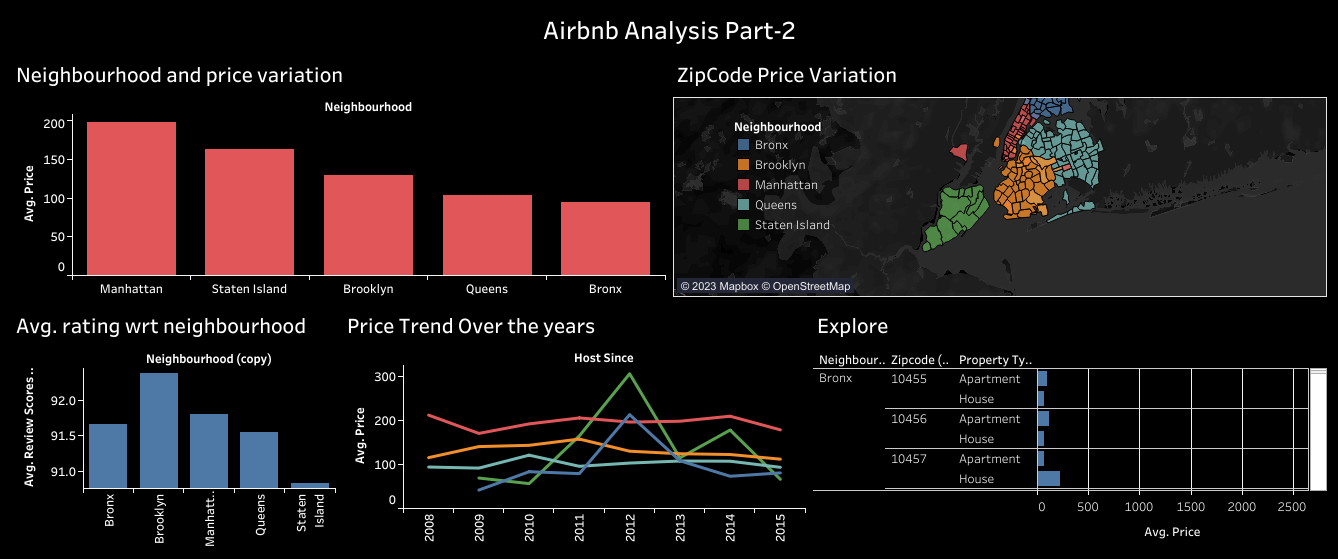

What the dashboard file says about the page in this screenshot:
{"tool":"tableau","page":{"name":"Dashboard 2","canvas":[1000,1000],"units":"permille","ordinal":1},"visuals":[{"type":"title","box":[6.9,13.3,986.1,68.1]},{"type":"worksheet","title":"Neighbourhood and price variation","mark":"Automatic","rows":["Price"],"cols":["Neighbourhood"],"box":[6.9,81.4,493,452.7]},{"type":"worksheet","title":"ZipCode Price Variation","mark":"Multipolygon","box":[500,81.4,493.1,452.7]},{"type":"legend","title":"ZipCode Price Variation","param":"[federated.1803osf0kwzkim16sy23b1sz4est].[none:Neighbourhood (copy)_162861424138","box":[547.2,206,139.4,227.6]},{"type":"worksheet","title":"Sheet 13","mark":"Automatic","rows":["Review Scores Rating"],"cols":["Neighbourhood (copy)_1628614241383301120"],"box":[6.9,534,246.5,452.7]},{"type":"worksheet","title":"Sheet 11","mark":"Automatic","rows":["Price"],"cols":["Host Since"],"box":[253.5,534,350.8,452.7]},{"type":"worksheet","title":"Sheet 12","mark":"Automatic","rows":["Neighbourhood (copy)_1628614241383301120","Zipcode (copy)_1628614241383325697","Property Type (copy)_1628614241384054788"],"cols":["Price"],"box":[604.3,534,388.8,452.7]}]}

Visuals, with their boxes on the dashboard's canvas, which has no fixed pixel size, in thousandths of its width and height (x1, y1, x2, y2). These are canvas units, not pixel positions in the 1338x559 screenshot, which may show the page scaled, cropped or inside an application window:
title: <bbox>7, 13, 993, 81</bbox>
"Neighbourhood and price variation" worksheet: <bbox>7, 81, 500, 534</bbox>
"ZipCode Price Variation" worksheet (Multipolygon marks): <bbox>500, 81, 993, 534</bbox>
"ZipCode Price Variation" legend: <bbox>547, 206, 687, 434</bbox>
"Sheet 13" worksheet: <bbox>7, 534, 253, 987</bbox>
"Sheet 11" worksheet: <bbox>254, 534, 604, 987</bbox>
"Sheet 12" worksheet: <bbox>604, 534, 993, 987</bbox>
